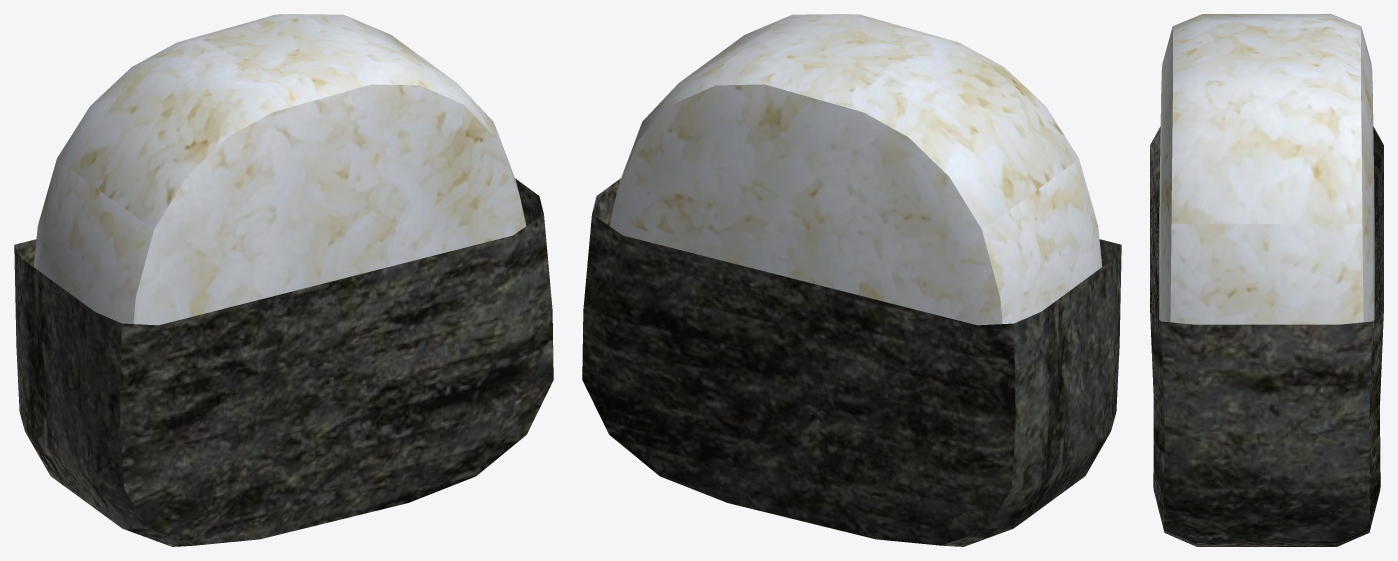
File: CircleGimbap.fbx
3 renders of one model, left to right at view 1: azimuth 30°, elevation 25°; view 2: azimuth 150°, elevation 25°; view 3: azimuth 270°, elevation 25°, orthographic.
Visible parts, largest first — view 1: Object32377.176; view 2: Object32377.176; view 3: Object32377.176.
Part boxes in pixels (bbox=[...]): Object32377.176: bbox=[14, 14, 553, 546]; Object32377.176: bbox=[582, 14, 1121, 546]; Object32377.176: bbox=[1150, 14, 1383, 546].
Size of the model in its own units: 12.34 by 11.59 by 5.57.
